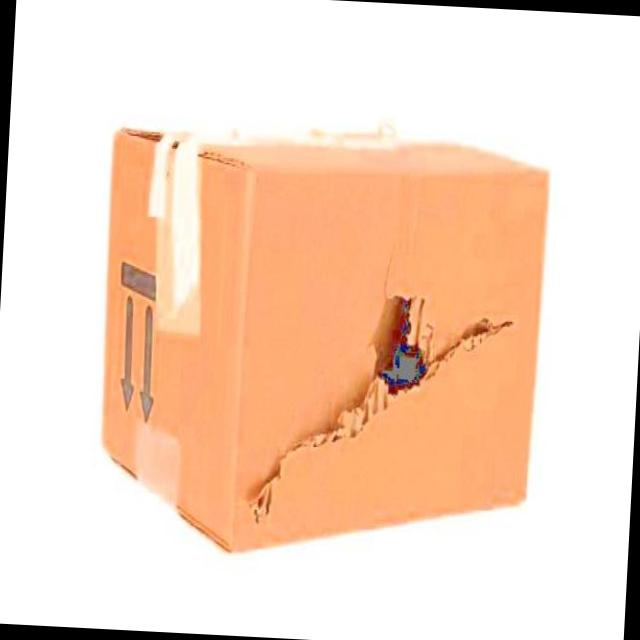box: (98, 126, 551, 555)
tear: (376, 296, 431, 393)
